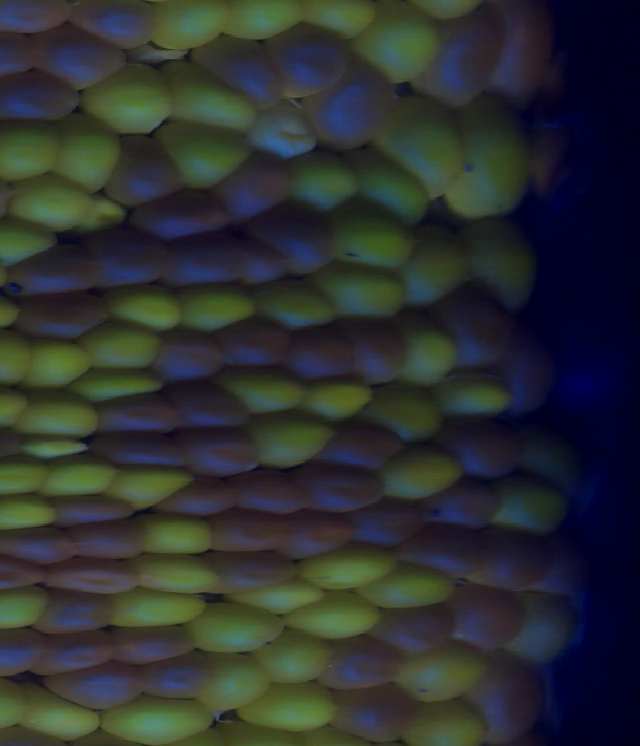fluorescent: (448, 97, 530, 217), (375, 99, 462, 194), (158, 117, 254, 186), (160, 60, 252, 130), (353, 3, 440, 77), (330, 194, 408, 274), (81, 66, 170, 134), (353, 148, 433, 223), (467, 220, 534, 302), (397, 640, 489, 697), (102, 697, 213, 743), (402, 228, 467, 304), (318, 263, 403, 320), (188, 604, 283, 653), (363, 561, 457, 610), (248, 411, 333, 465), (18, 679, 97, 736), (58, 112, 116, 189), (378, 444, 461, 497), (7, 176, 88, 230), (253, 282, 338, 332), (108, 587, 206, 630), (203, 650, 269, 712), (286, 594, 381, 637), (243, 683, 335, 727), (496, 476, 563, 536), (405, 697, 487, 746), (220, 365, 305, 412), (290, 153, 357, 211), (86, 321, 162, 372), (16, 388, 95, 437), (400, 318, 456, 386), (268, 627, 337, 682), (371, 387, 440, 441), (439, 372, 519, 418), (294, 547, 393, 584), (0, 116, 57, 178), (103, 282, 181, 327), (103, 467, 189, 507), (149, 3, 225, 48), (179, 282, 255, 326), (133, 554, 218, 592), (28, 336, 92, 385), (39, 460, 114, 498), (143, 515, 210, 557), (305, 380, 373, 421), (225, 2, 304, 37), (226, 584, 322, 612), (73, 367, 161, 397), (0, 218, 58, 263), (303, 4, 378, 37), (0, 585, 50, 630), (0, 493, 55, 531), (0, 457, 54, 495), (0, 332, 33, 384), (87, 194, 126, 232), (27, 436, 93, 458)
nonfluorescent: (309, 52, 391, 152), (421, 13, 501, 107), (435, 286, 512, 371), (190, 34, 275, 106), (252, 202, 336, 272), (471, 654, 543, 735), (438, 416, 524, 482), (32, 23, 120, 85), (273, 22, 350, 92), (497, 2, 551, 100), (129, 188, 232, 238), (84, 229, 169, 289), (326, 687, 417, 742), (107, 136, 181, 202), (447, 586, 525, 647), (4, 242, 91, 296), (15, 292, 108, 342), (223, 150, 288, 221), (47, 666, 147, 712), (323, 634, 400, 692), (341, 316, 406, 382), (168, 235, 250, 287), (303, 461, 381, 515), (283, 323, 353, 383), (423, 477, 503, 529), (480, 528, 550, 587), (171, 380, 246, 435), (323, 421, 404, 471), (370, 606, 454, 653), (222, 318, 290, 376), (153, 328, 223, 384), (207, 507, 284, 557), (0, 72, 78, 121), (150, 477, 240, 519), (171, 432, 258, 475), (203, 553, 296, 593), (112, 623, 193, 668), (280, 510, 353, 559), (48, 557, 133, 599), (406, 527, 484, 572), (42, 593, 113, 641), (97, 430, 180, 471), (71, 519, 148, 563), (140, 653, 208, 702), (240, 471, 308, 519), (347, 502, 424, 544), (98, 394, 178, 434), (36, 630, 114, 671), (0, 527, 76, 569), (53, 494, 136, 527), (233, 234, 288, 282), (0, 627, 43, 681), (0, 553, 48, 595), (0, 26, 33, 86)
